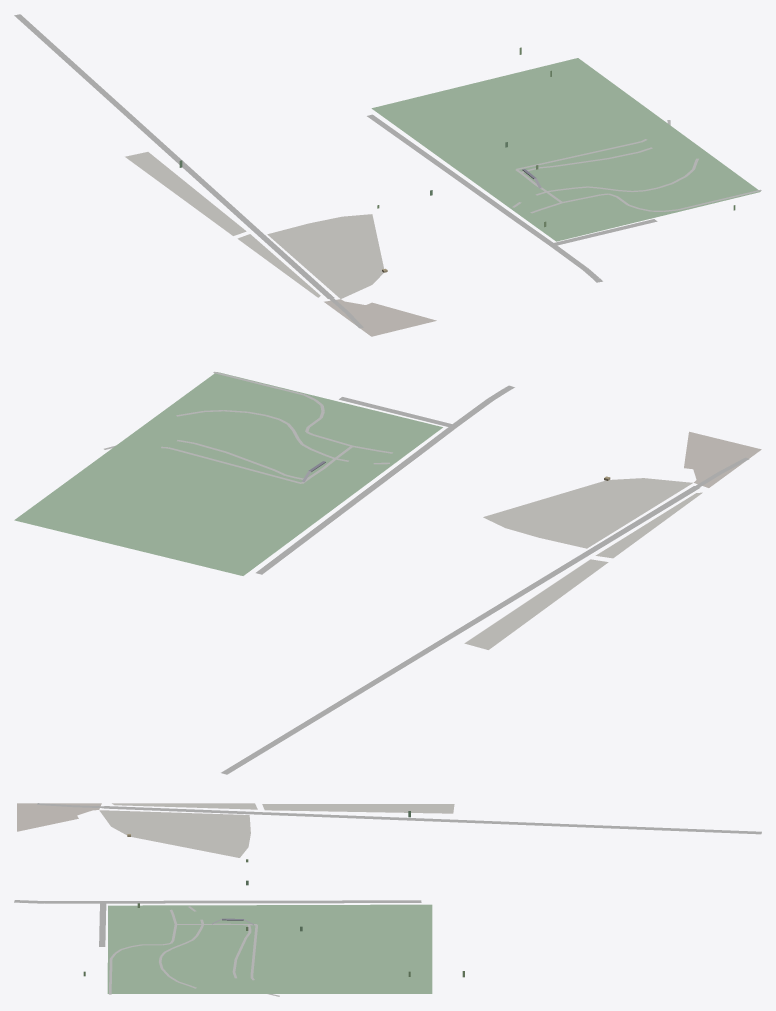
3 views of the same model, one above another, from view 1: azimuth 30°, elevation 25°; view 2: azimuth 150°, elevation 25°; view 3: azimuth 270°, elevation 25° (orthographic). The views are drawn at different scales.
Size of the model in its own units: 507 by 8.93 by 829.
